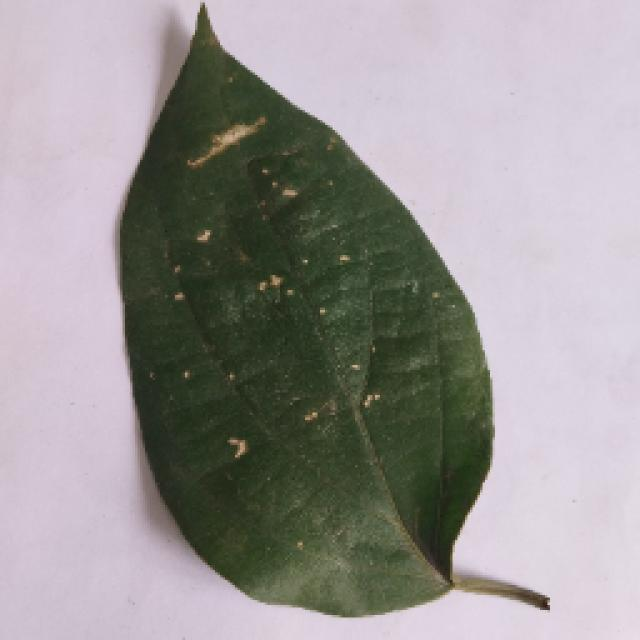pollu-disease: (117, 3, 535, 615)
